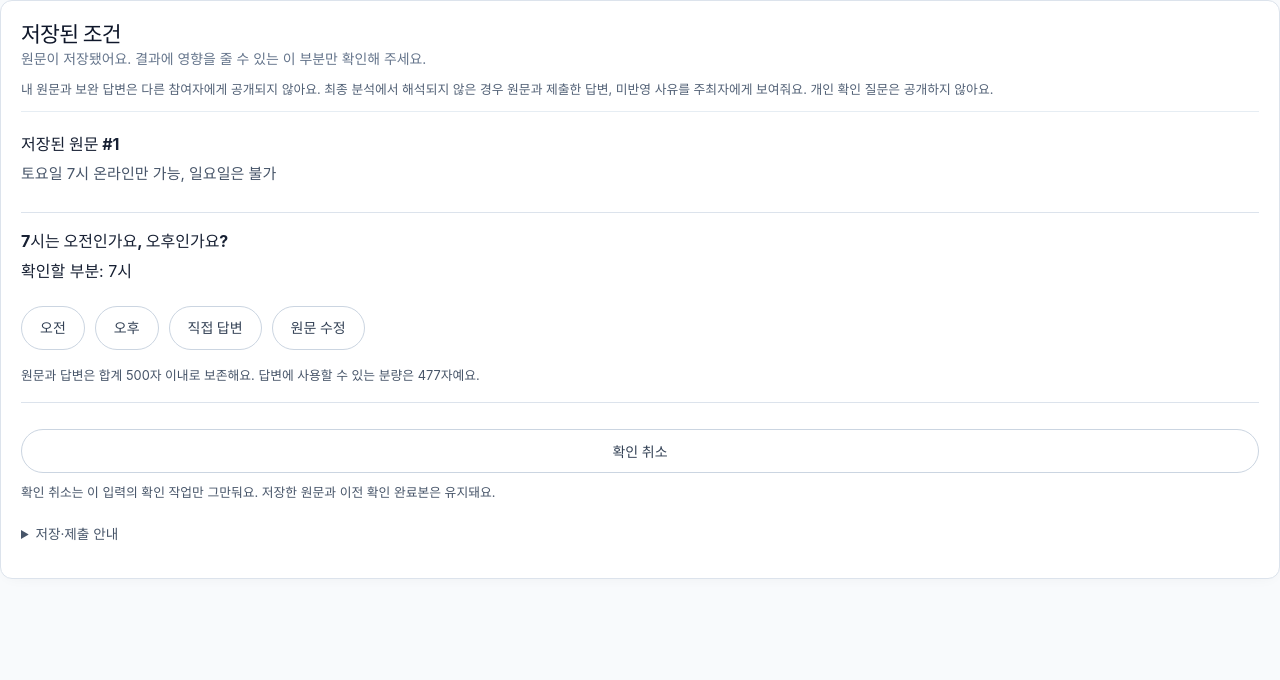
Scenario: EX-DRAFT a dirty answer cannot become a new original after selecting A or B
This screenshot has width=1280, height=680.
Click the button "직접 답변" at (215,328), box [168, 306, 262, 350]
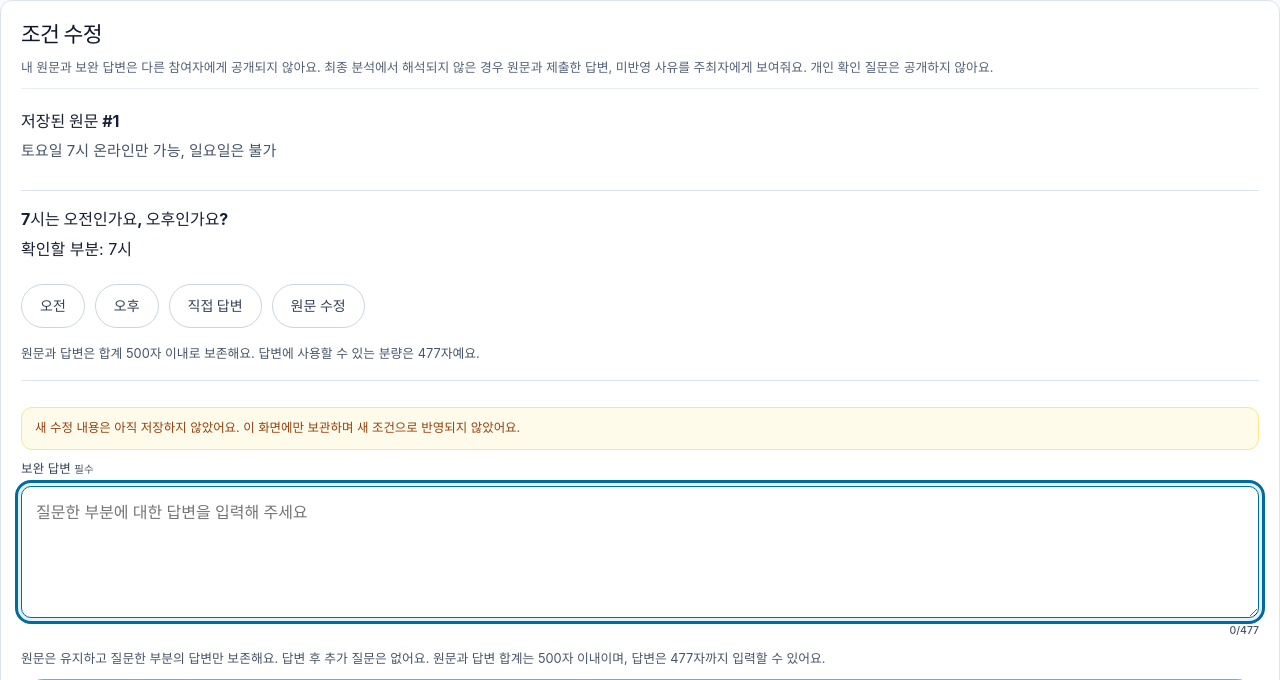
Type "제 개인 답변은 퇴근 뒤입니다" into the text box labelled "보완 답변 필수 0/477" at (640,552), box [21, 486, 1259, 618]
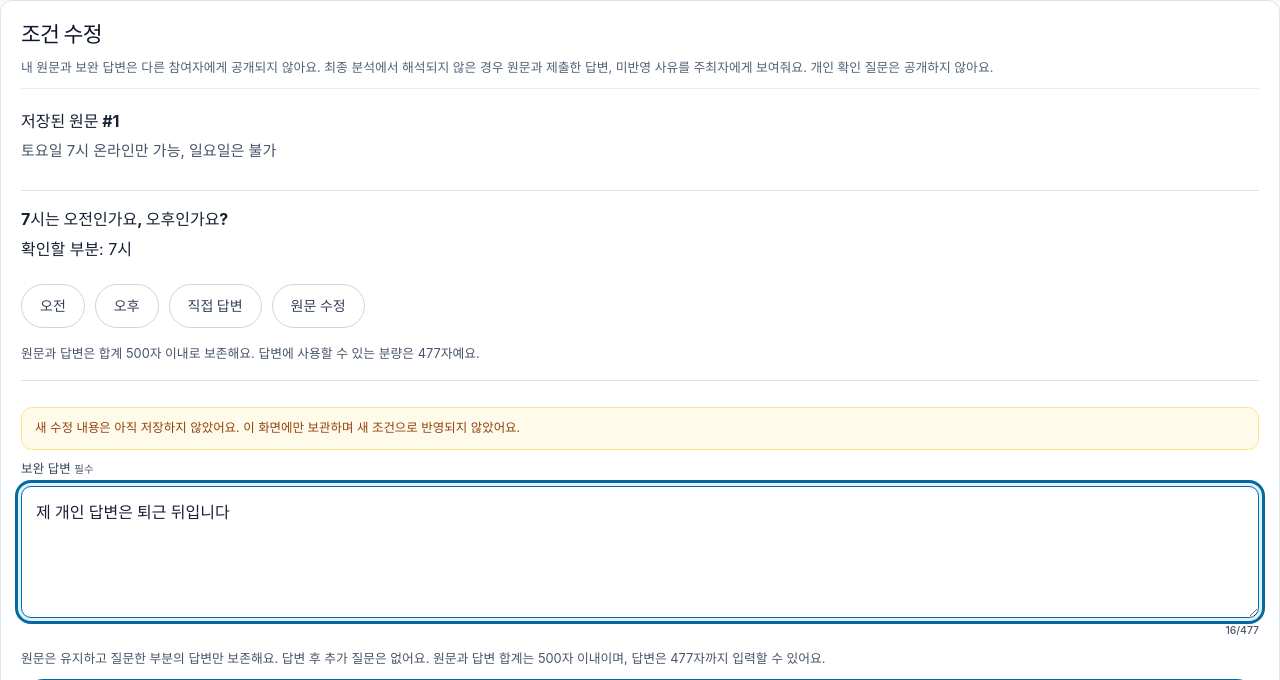
Click the button "오후" at (127,306), box [95, 284, 159, 328]
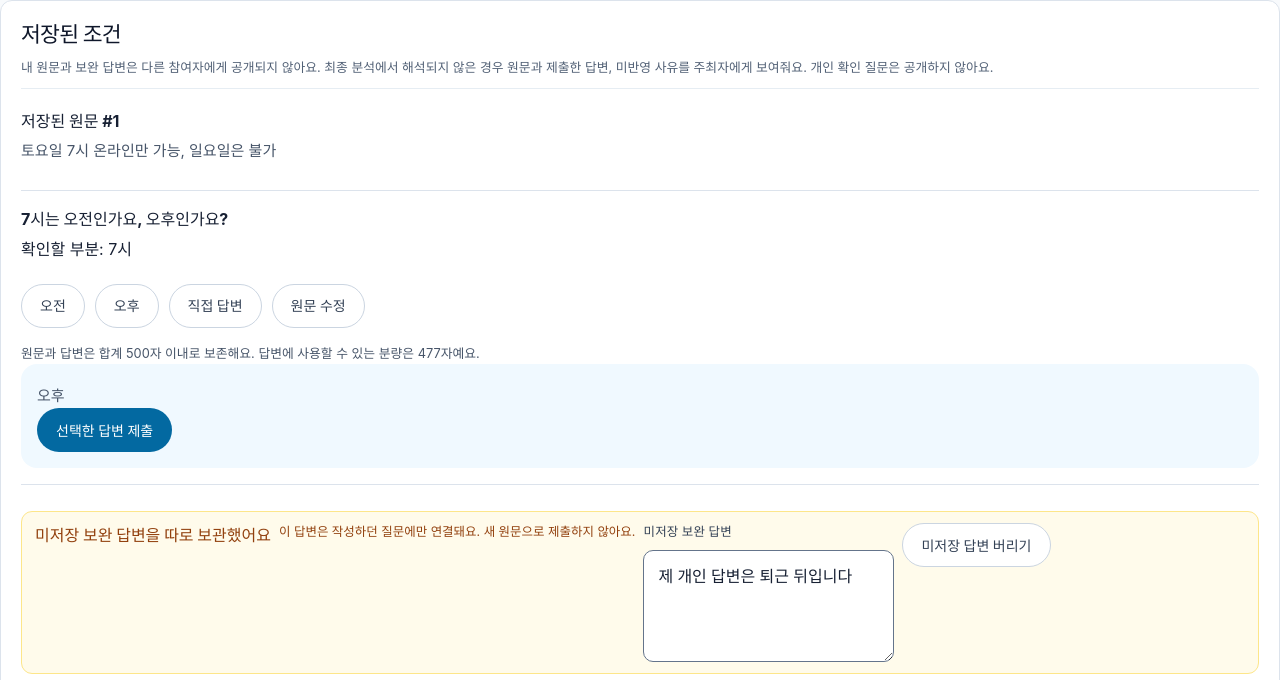
Click the button "선택한 답변 제출" at (105,430), box [37, 408, 172, 452]
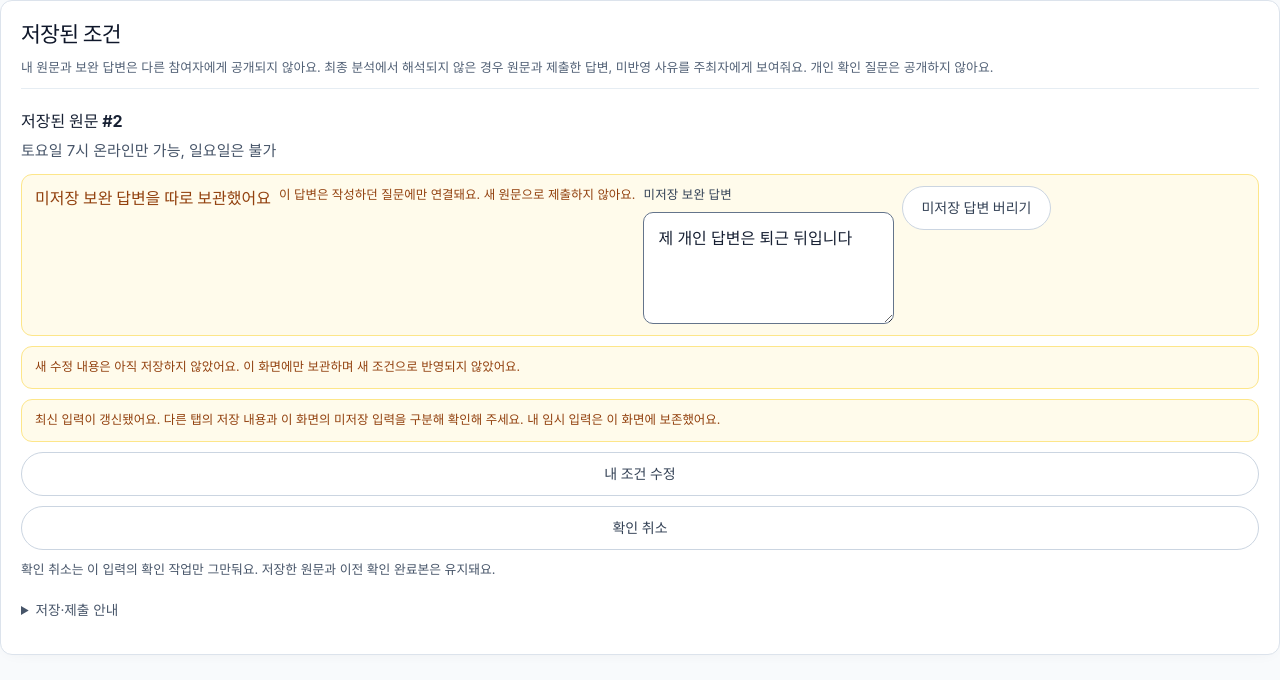
Now the text box showing "제 개인 답변은 퇴근 뒤입니다" is shown, box [643, 212, 894, 324]
Now the heading "7시는 오전인가요, 오후인가요?" is gone
